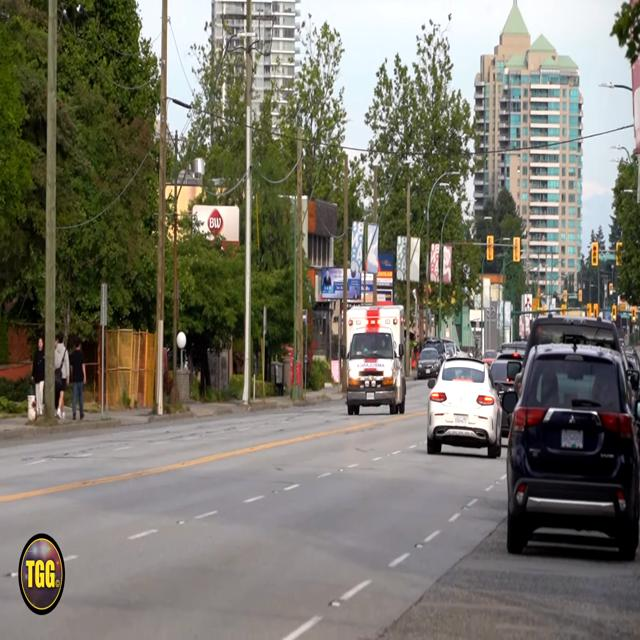emergency-vehicles: (323, 297, 420, 430)
